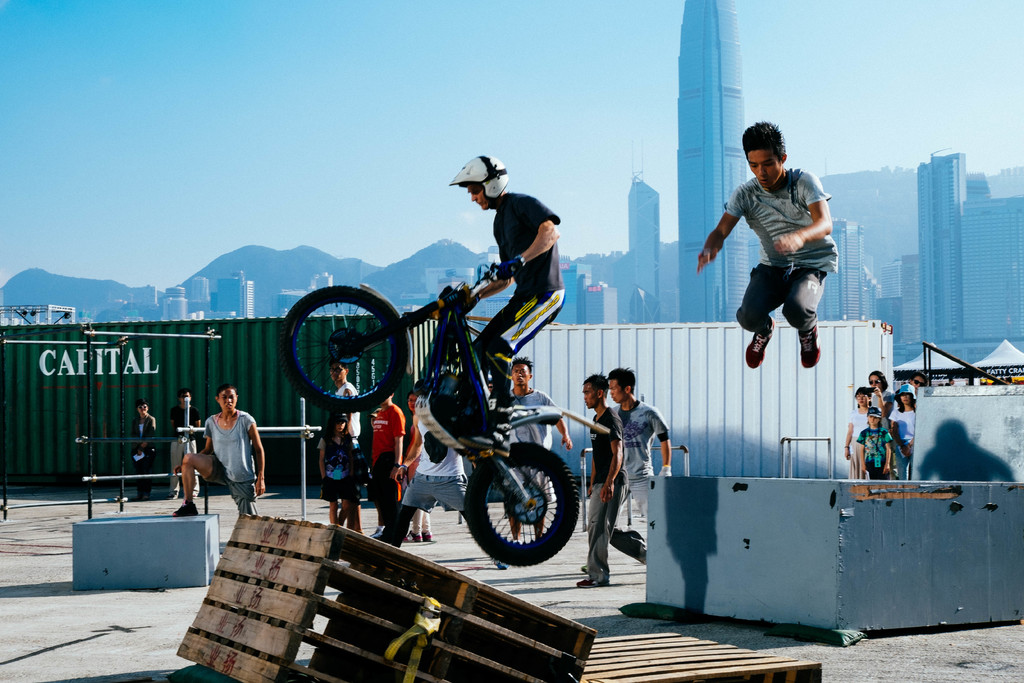Person: (129, 118, 927, 587)
